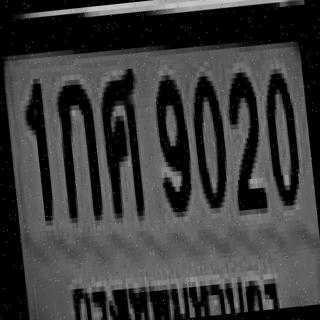A01: (53, 73, 101, 218)
A38: (95, 64, 146, 214)
N00: (187, 70, 229, 204), (260, 62, 300, 202)
N01: (20, 76, 52, 214)
N02: (222, 66, 265, 205)
N09: (150, 69, 193, 208)
